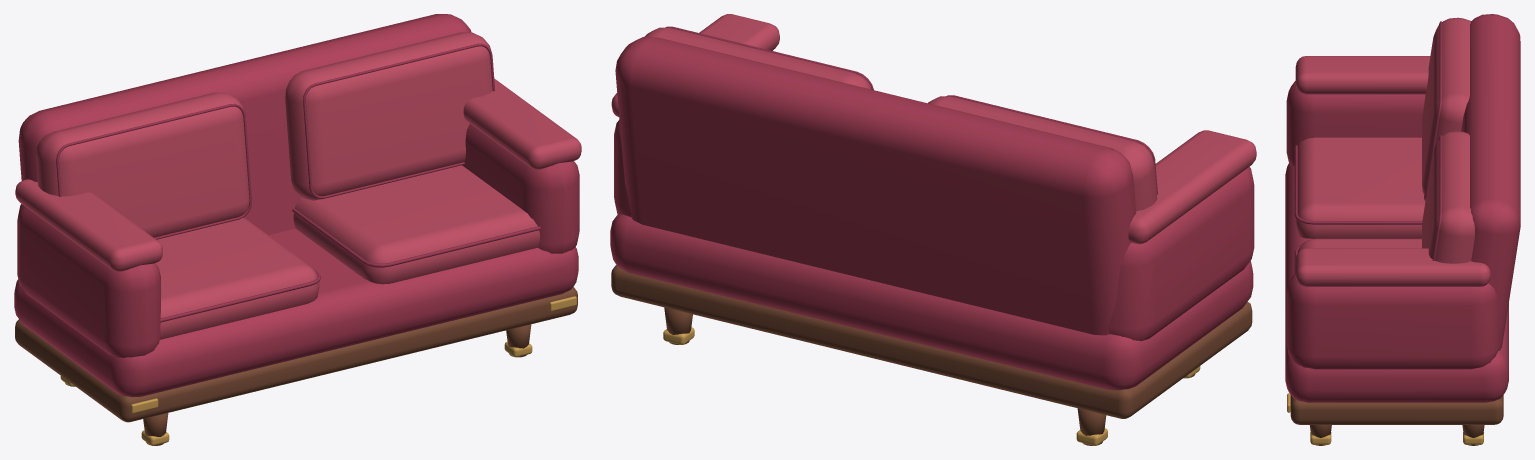
The model's file is cinema-sofa.glb.
3 views of the same model, side by side, from view 1: azimuth 30°, elevation 25°; view 2: azimuth 150°, elevation 25°; view 3: azimuth 270°, elevation 25° (orthographic). The views are drawn at different scales.
Parts seen in each view (by area): view 1: Arm top 0, Back shell, Tapered leg, Continuous seat welt, Brass plinth accent 0; view 2: Back shell, Tapered leg, Arm top 0, Continuous seat welt, Brass plinth accent 0; view 3: Back shell, Arm top 0, Tapered leg, Continuous seat welt, Brass plinth accent 0.
Boxes of the visible parts, x1,y1,x2,y2 form: Arm top 0: [15, 32, 581, 339]; Back shell: [14, 14, 579, 397]; Tapered leg: [15, 287, 577, 445]; Continuous seat welt: [56, 43, 541, 322]; Brass plinth accent 0: [60, 296, 576, 445]; Back shell: [610, 37, 1254, 390]; Tapered leg: [611, 265, 1252, 445]; Arm top 0: [611, 14, 1256, 244]; Continuous seat welt: [665, 26, 1157, 194]; Brass plinth accent 0: [663, 302, 1250, 445]; Back shell: [1285, 14, 1520, 402]; Arm top 0: [1295, 17, 1490, 286]; Tapered leg: [1290, 395, 1503, 445]; Continuous seat welt: [1294, 21, 1442, 273]; Brass plinth accent 0: [1287, 393, 1483, 444].
Size of the model in its own units: 1.95 by 1.05 by 0.8943.
